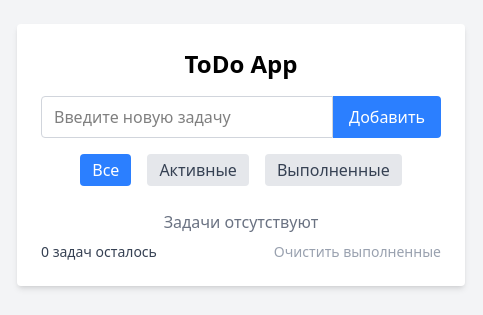
Test: ToDo App › добавляет новую задачу
Type "Новая задача" into the field with placeholder "Введите новую задачу". click: (187, 117)
box: x1=41 y1=96 x2=333 y2=138
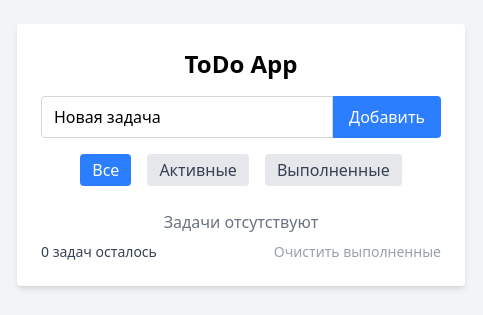
Click the button "Добавить". click: click(387, 117)
box: x1=333 y1=96 x2=441 y2=138
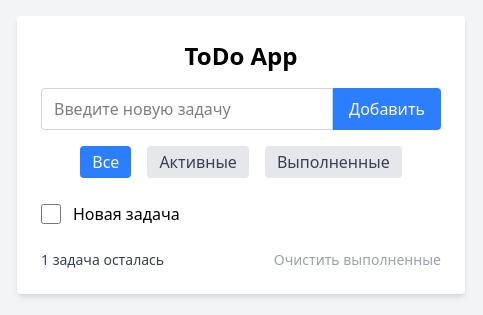
Now the text "Новая задача" is shown, box x1=73 y1=203 x2=180 y2=225
